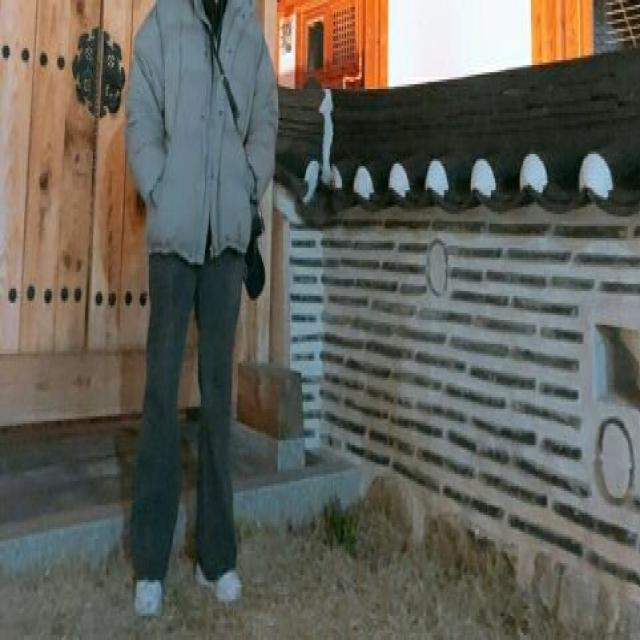denimpants: (128, 241, 246, 580)
padding: (125, 0, 278, 262)
